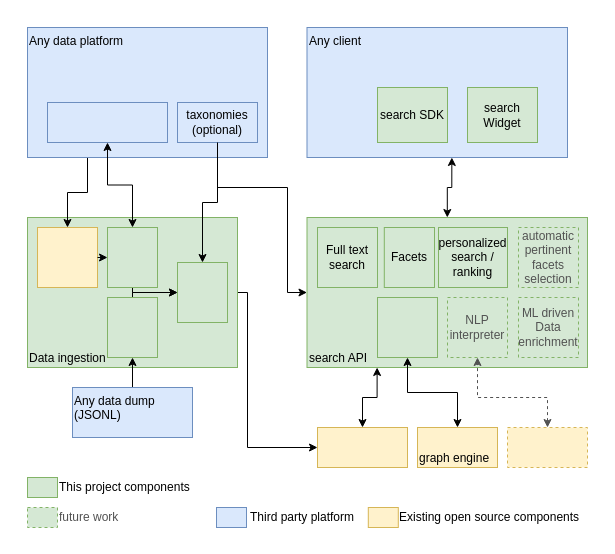
This 615x554 diagram has some shape labels left out. Each missing label, with the centre of its shape:
Data fetcher: point 132,257
Event Stream: point 67,257
Graph generator: point 407,327
Ingestion logic: point 202,292
JSON API: point 107,122
NLP engines / libraries: point 547,447
Offline ingestion: point 132,327
search engine: point 362,447
